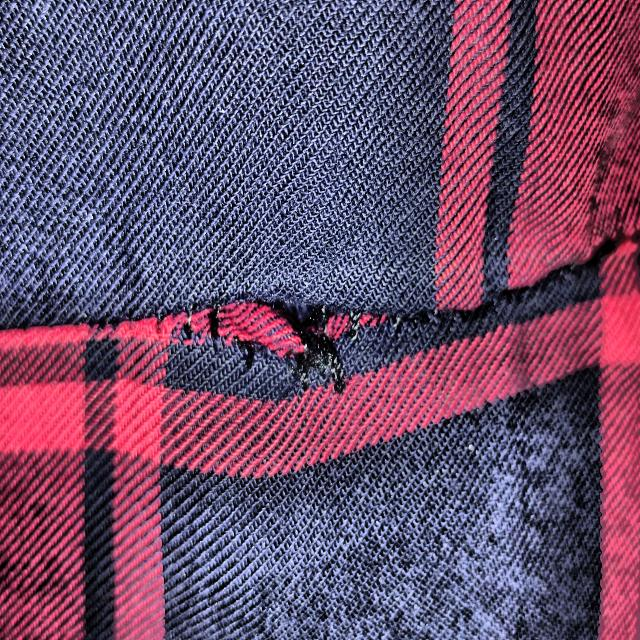seam: (121, 247, 432, 443)
